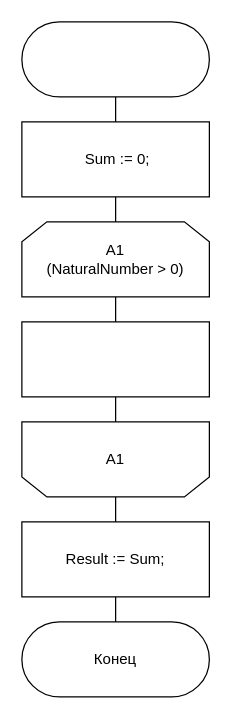
This 231x719 diagram has some shape labels left out. The box of each missing label's shape, as (x1, y1, x2, y2) in pixels:
Function DigitsSum(NaturalNumber: Integer): Integer: (21, 21, 209, 97)
Sum := Sum + NaturalNumber Mod 10; NaturalNumber := NaturalNumber Div 10;: (21, 321, 209, 397)
